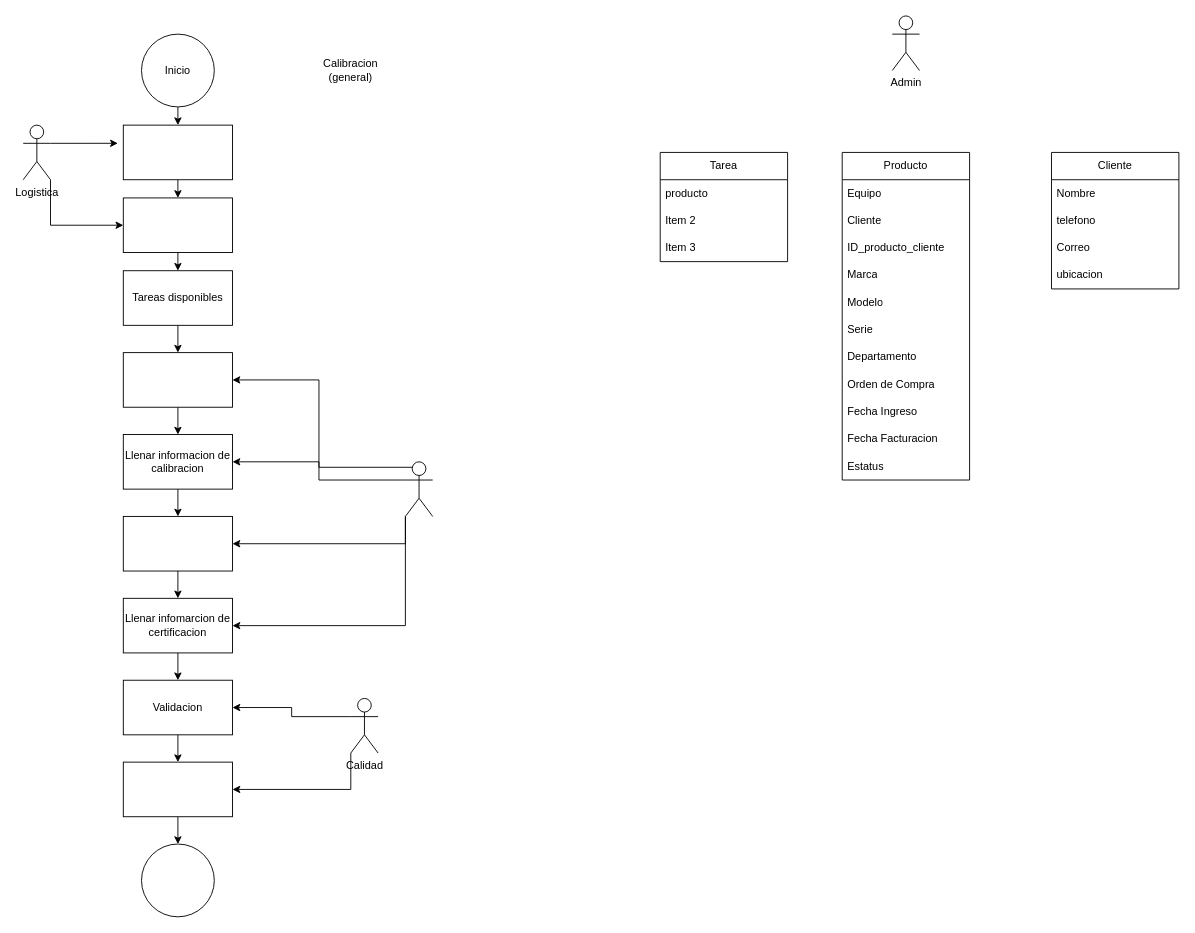
The diagram is 1195 pixels wide and 933 high, and some of its shapes have lost their labels. Here are the shapes that lost their labels. From the top down, the centre of each, then its label:
the point at 177,152: Llenar informacion de Producto
the point at 177,225: Llenar informacion de Tarea
the point at 177,379: Asignar tarea
the point at 418,488: Tecnico
the point at 177,543: Certificacion
the point at 177,789: Entrega
